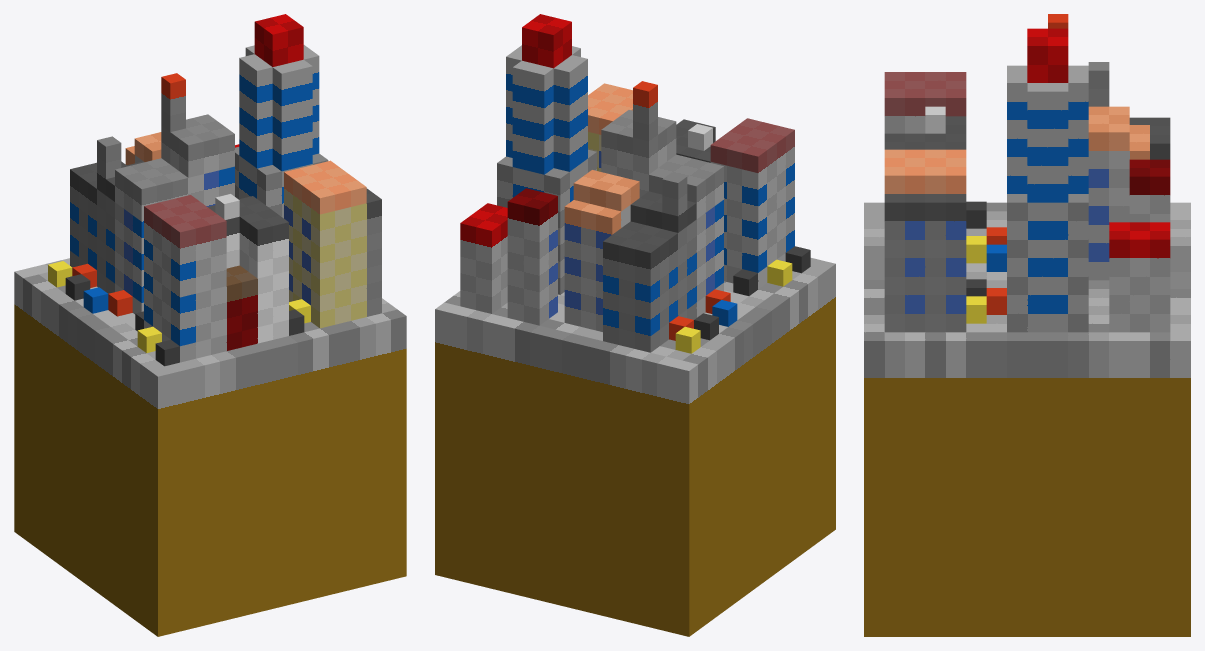
File: metropolis.gltf
The picture shows the model from 3 angles, left to right: view 1: azimuth 30°, elevation 25°; view 2: azimuth 150°, elevation 25°; view 3: azimuth 270°, elevation 25°; orthographic projection. The views are drawn at different scales.
Visible parts, largest first — view 1: Content-Mesh; view 2: Content-Mesh; view 3: Content-Mesh.
Part boxes in pixels (<box>): Content-Mesh: <box>14,14,406,636</box>; Content-Mesh: <box>435,14,835,636</box>; Content-Mesh: <box>864,14,1190,636</box>.
Bounding box in the file's own units: 16 × 31 × 16.
1 material, 1 textured.
